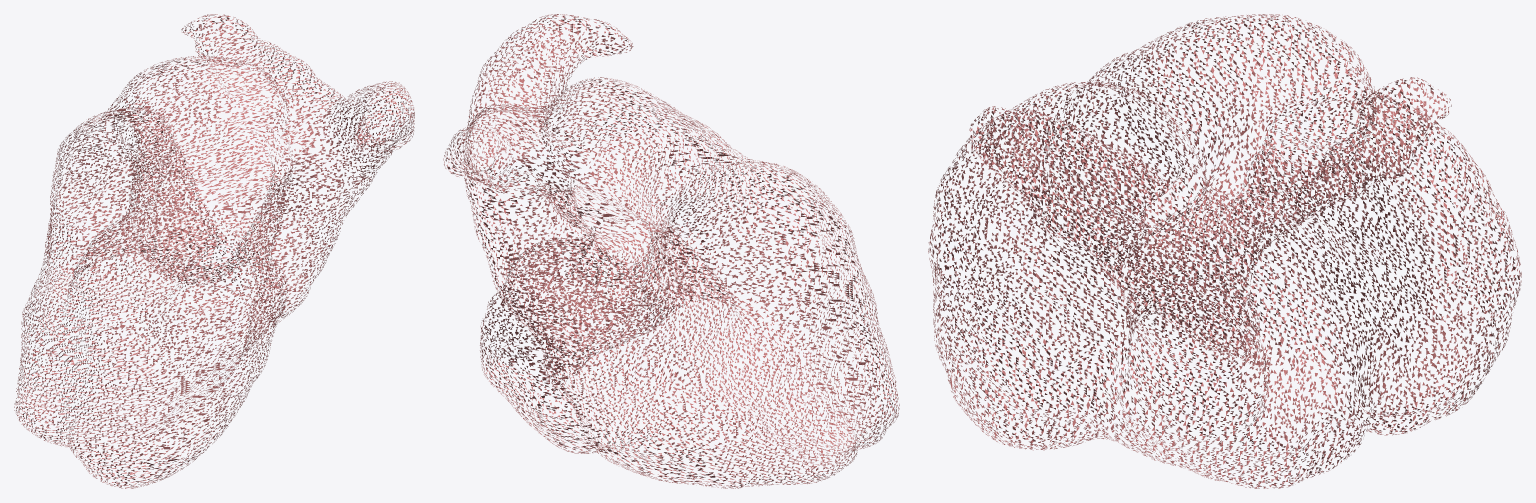
File: heart.glb
The picture shows the model from 3 angles, left to right: view 1: azimuth 30°, elevation 25°; view 2: azimuth 150°, elevation 25°; view 3: azimuth 270°, elevation 25°; orthographic projection. The views are drawn at different scales.
Size of the model in its own units: 130 by 117 by 123.
